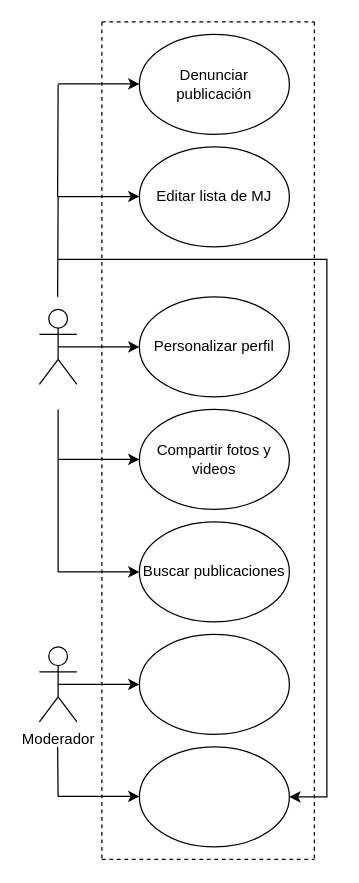
The diagram is 359 pixels wide and 883 high, and some of its shapes have lost their labels. The shapes that lost their labels are listed below. From the top down, each one's centre as x and y in pixels, then its label:
At pixel 57 346: "Usuario".
At pixel 213 683: "Marcar información falsa".
At pixel 213 796: "Borrar publicaciones".
